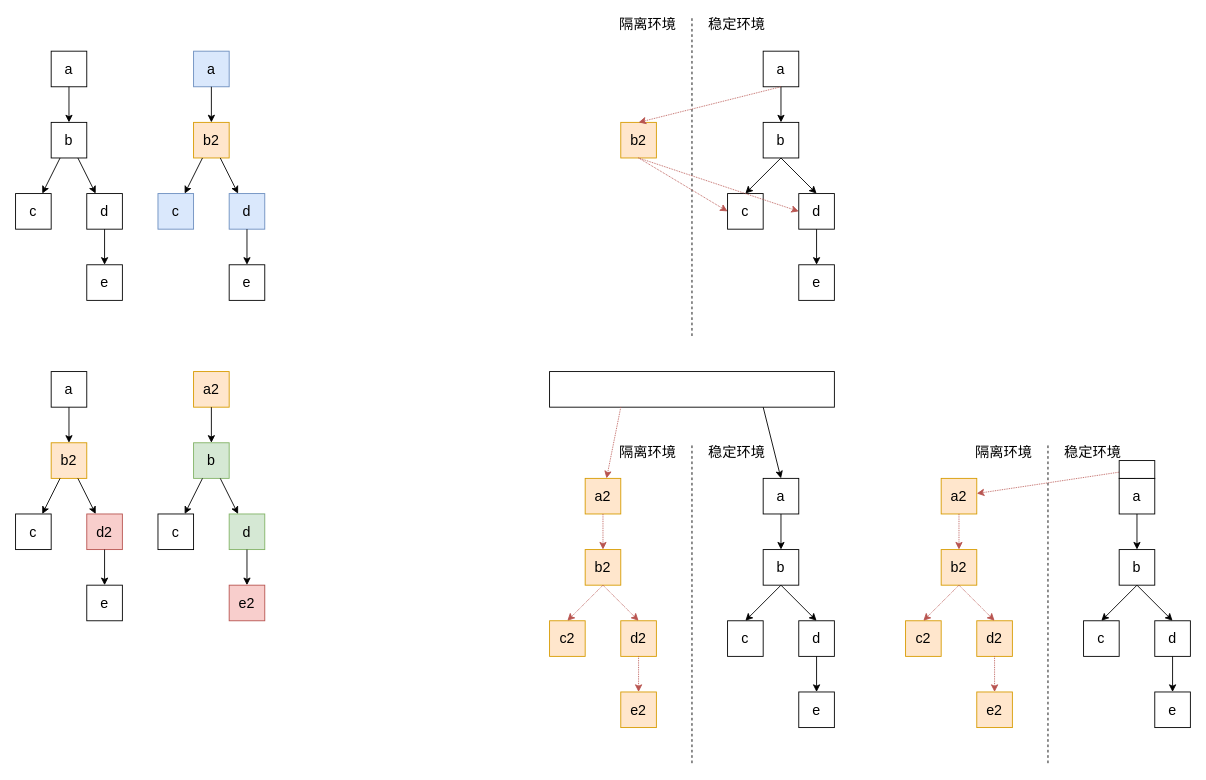
The diagram is 1206 pixels wide and 780 high, and some of its shapes have lost their labels. Each missing label, with the centre of its shape:
入口: point 1136,469
网关: point 691,389
